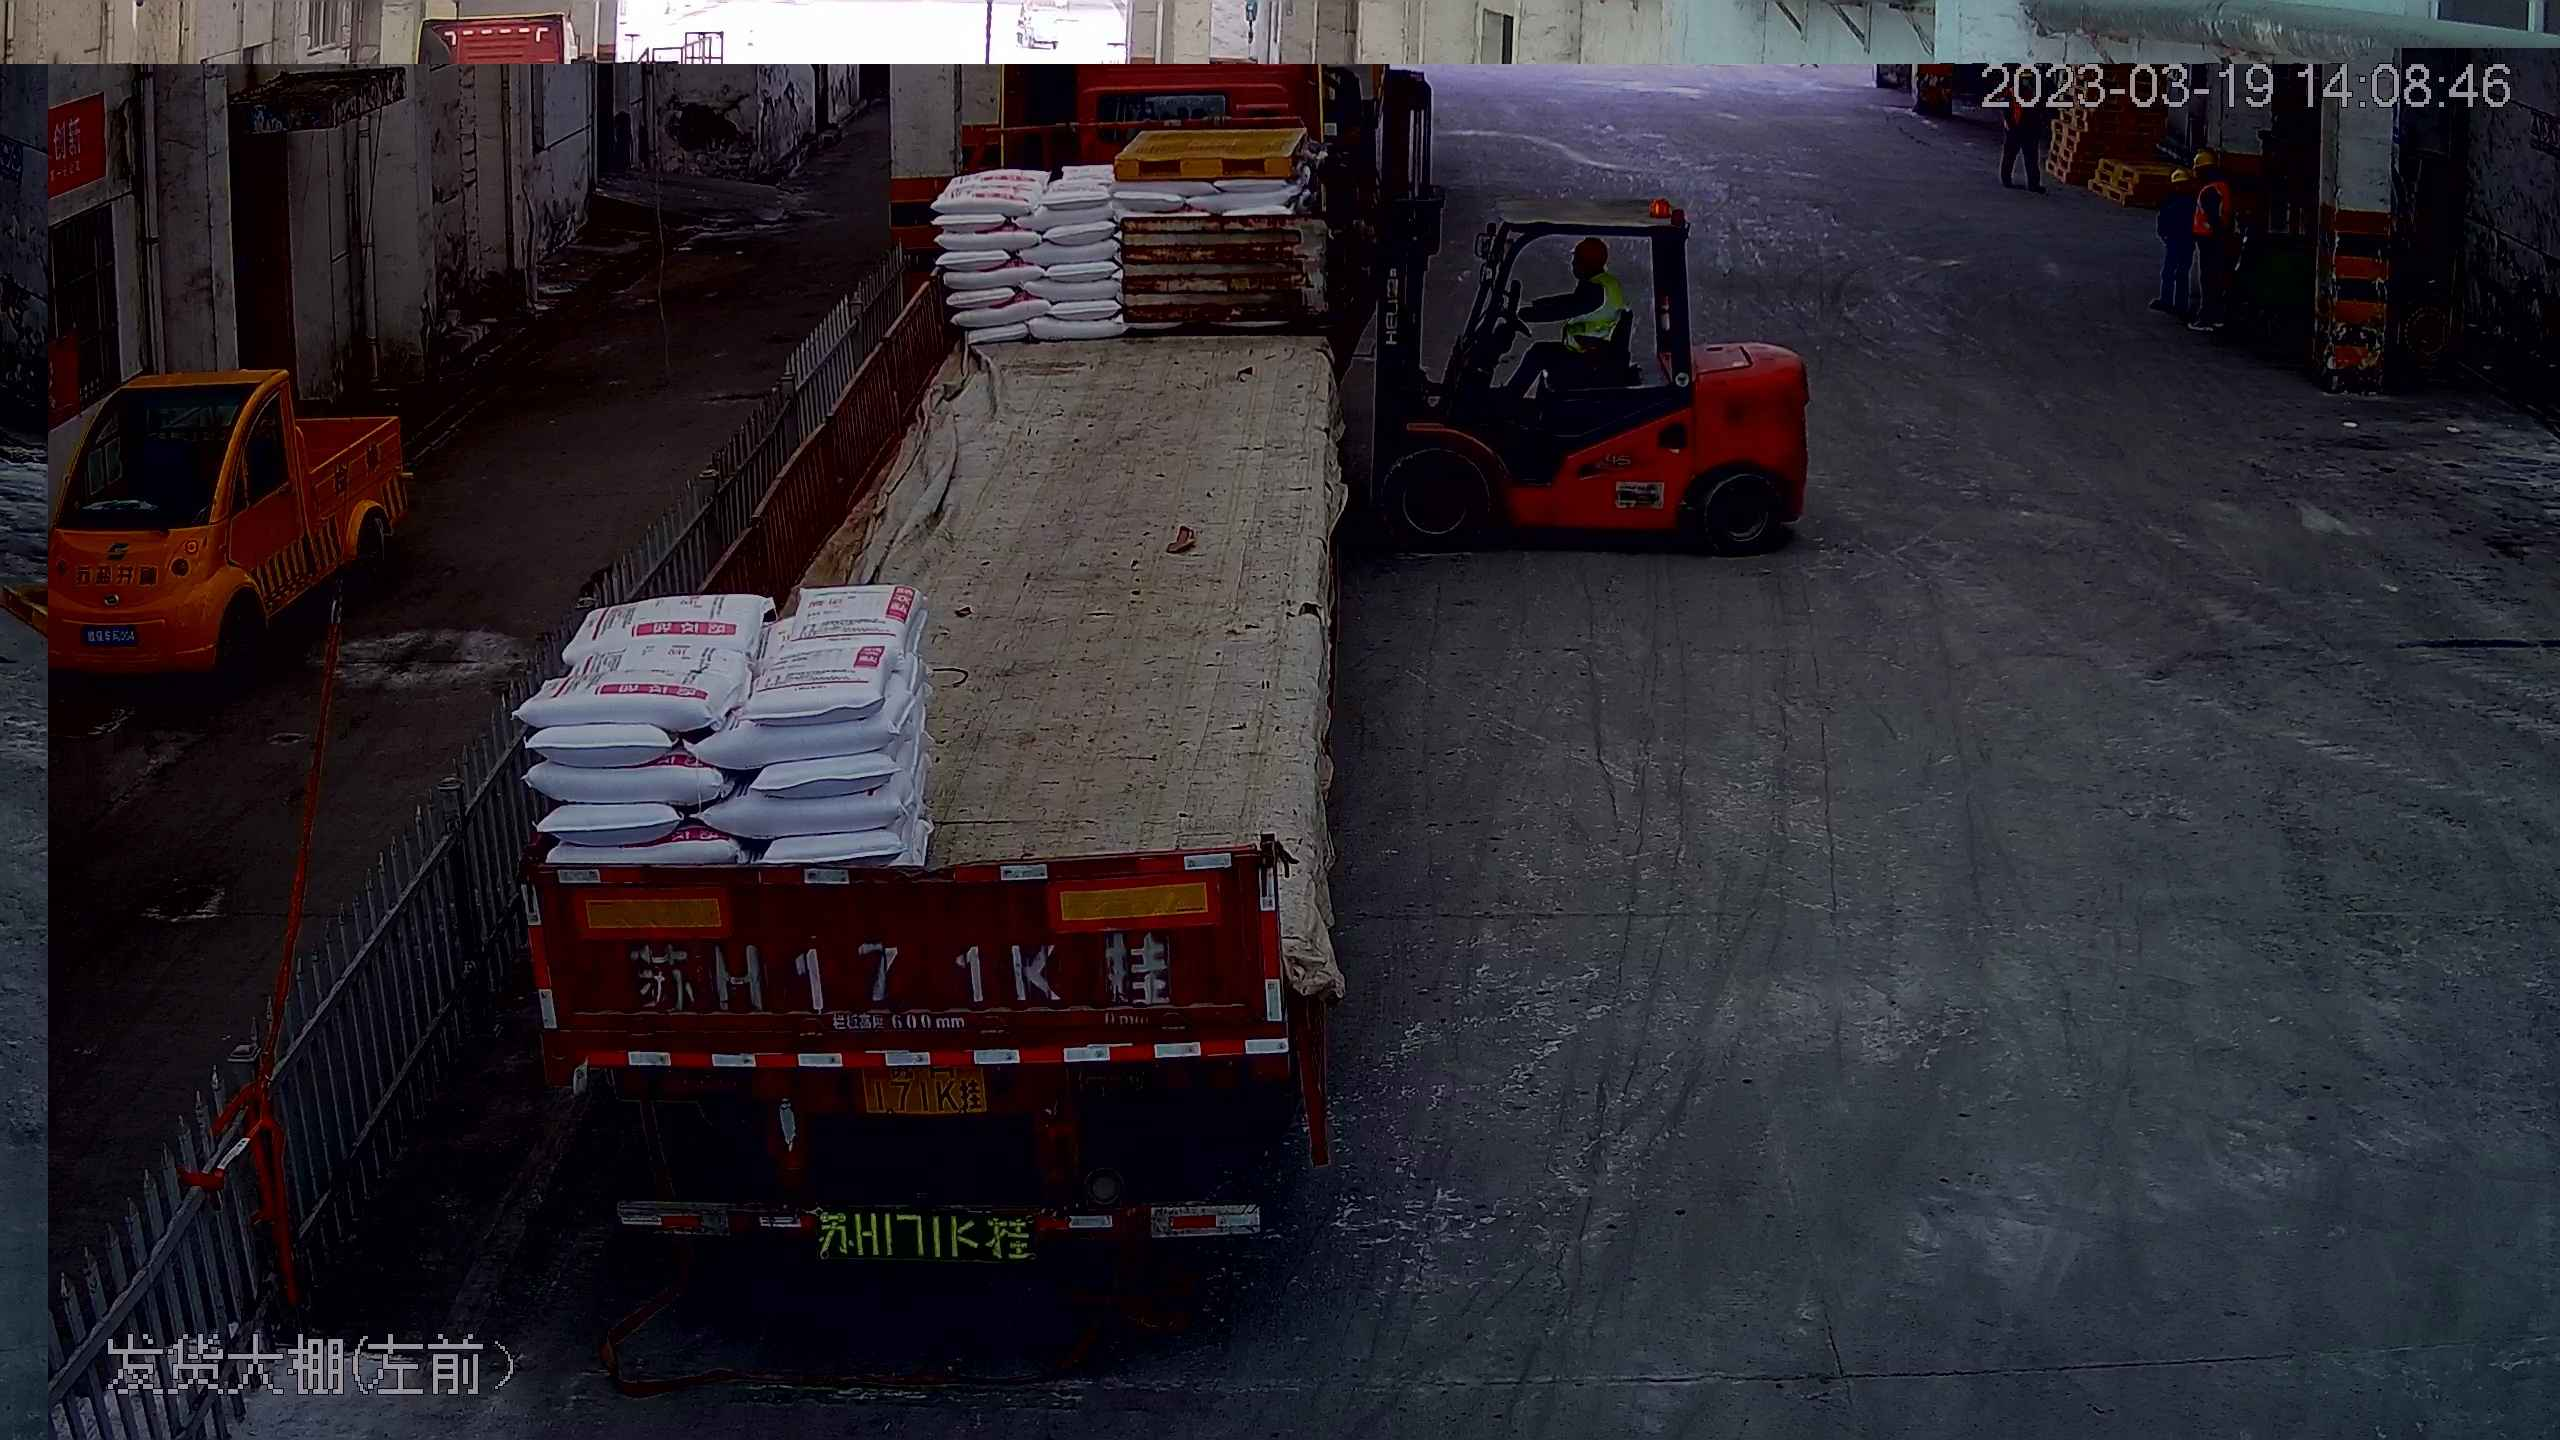head: (1557, 234, 1620, 309), (2183, 153, 2226, 200)
helmet: (1569, 232, 1606, 260), (2192, 153, 2211, 170), (2168, 172, 2187, 184)
people: (1492, 230, 1625, 409), (2181, 147, 2237, 338), (2143, 168, 2195, 312), (2157, 168, 2196, 221)
truck: (504, 37, 1355, 1269)
